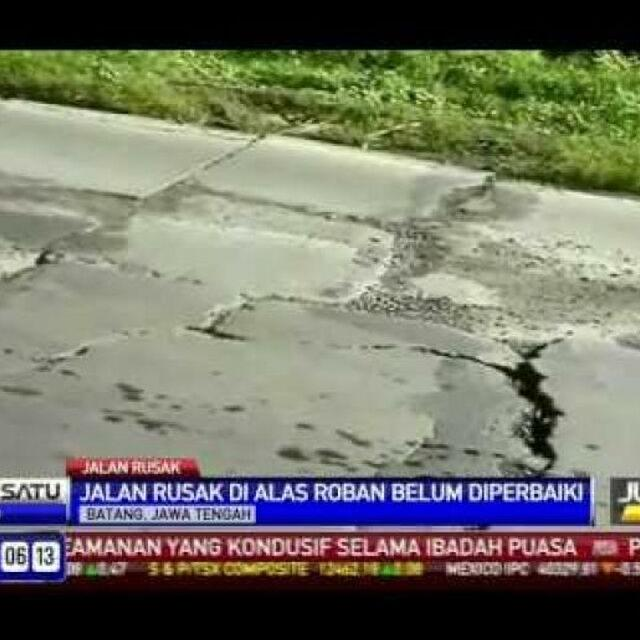retak_memanjang: (370, 323, 602, 473)
